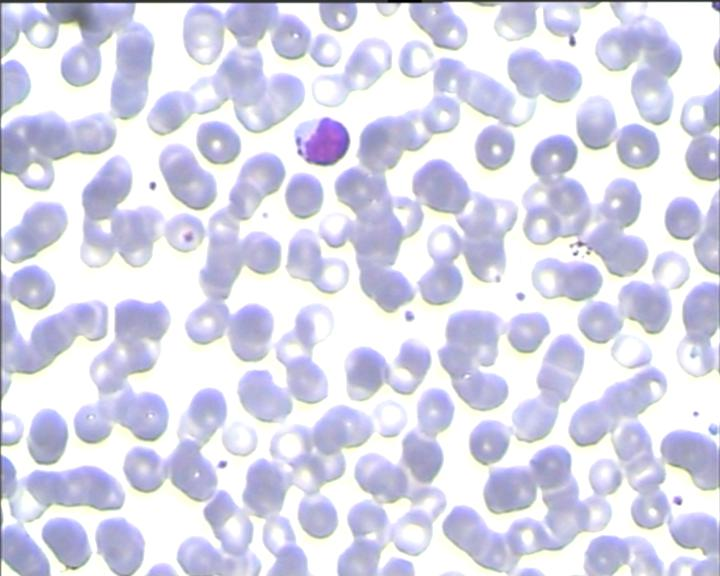lymp: (290, 111, 352, 167)
